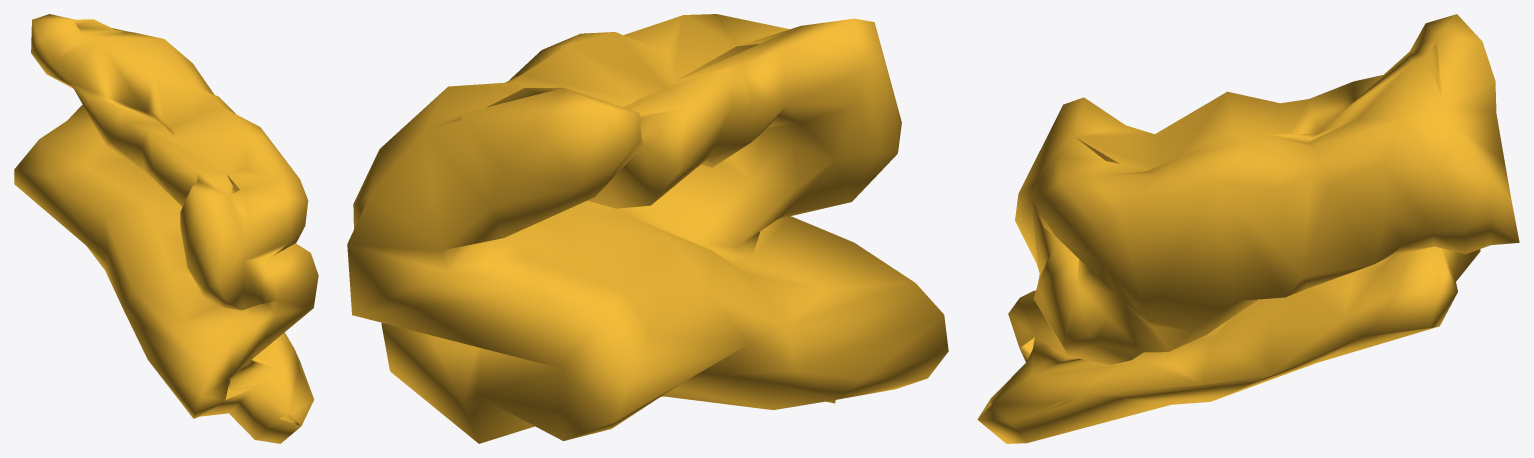
File: nervoso-cingulate-gyrus-and-sulcus-middle-anterior-part-r.glb
The picture shows the model from 3 angles, left to right: view 1: azimuth 30°, elevation 25°; view 2: azimuth 150°, elevation 25°; view 3: azimuth 270°, elevation 25°; orthographic projection. The views are drawn at different scales.
Parts seen in each view (by area): view 1: Cingulate gyrus and sulcus (Middle anterior part).r; view 2: Cingulate gyrus and sulcus (Middle anterior part).r; view 3: Cingulate gyrus and sulcus (Middle anterior part).r.
Part boxes in pixels (box(x1,y1,x2,y2)): Cingulate gyrus and sulcus (Middle anterior part).r: box(14, 14, 318, 443); Cingulate gyrus and sulcus (Middle anterior part).r: box(347, 14, 948, 443); Cingulate gyrus and sulcus (Middle anterior part).r: box(977, 14, 1519, 443).
Size of the model in its own units: 0.0145 by 0.0289 by 0.0367.
